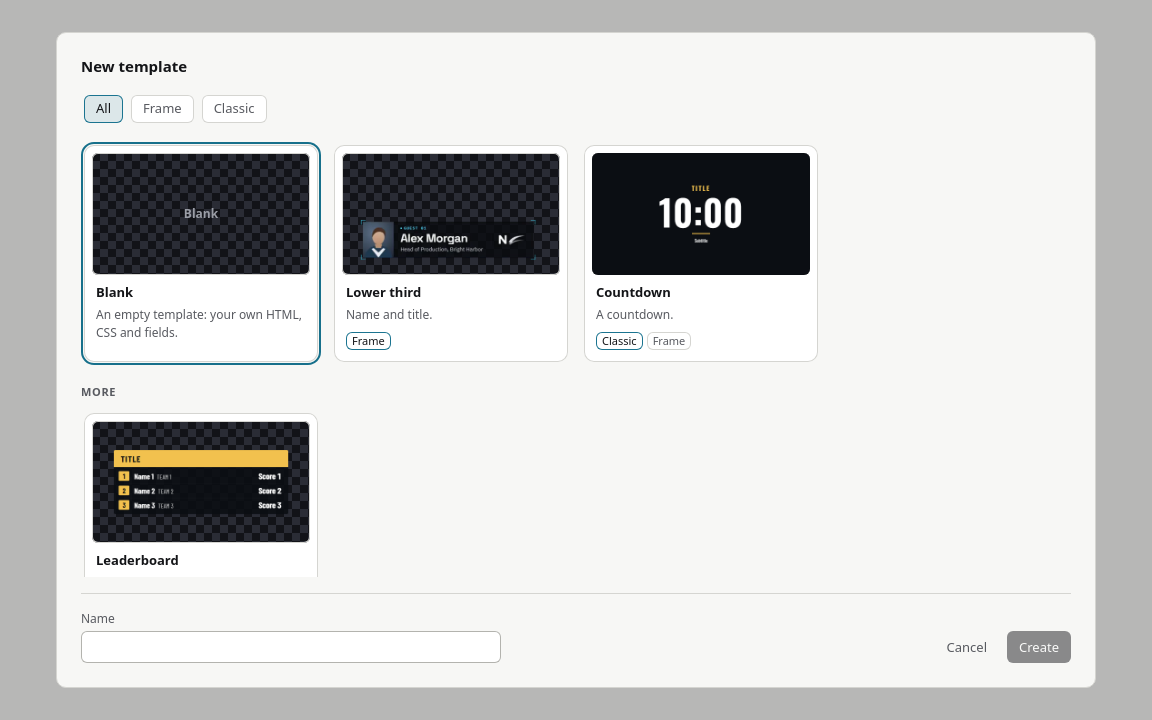
Gallery › the name input has no placeholder and is filled from the chosen preset
expect the option that starts with "Blank" is shown: met, box left=84, top=145, right=318, bottom=362
expect the element named "Style" is shown: met, box left=81, top=92, right=270, bottom=126
Click the option "Countdown A countdown. Classic Frame" at (701, 253), box left=584, top=145, right=818, bottom=362
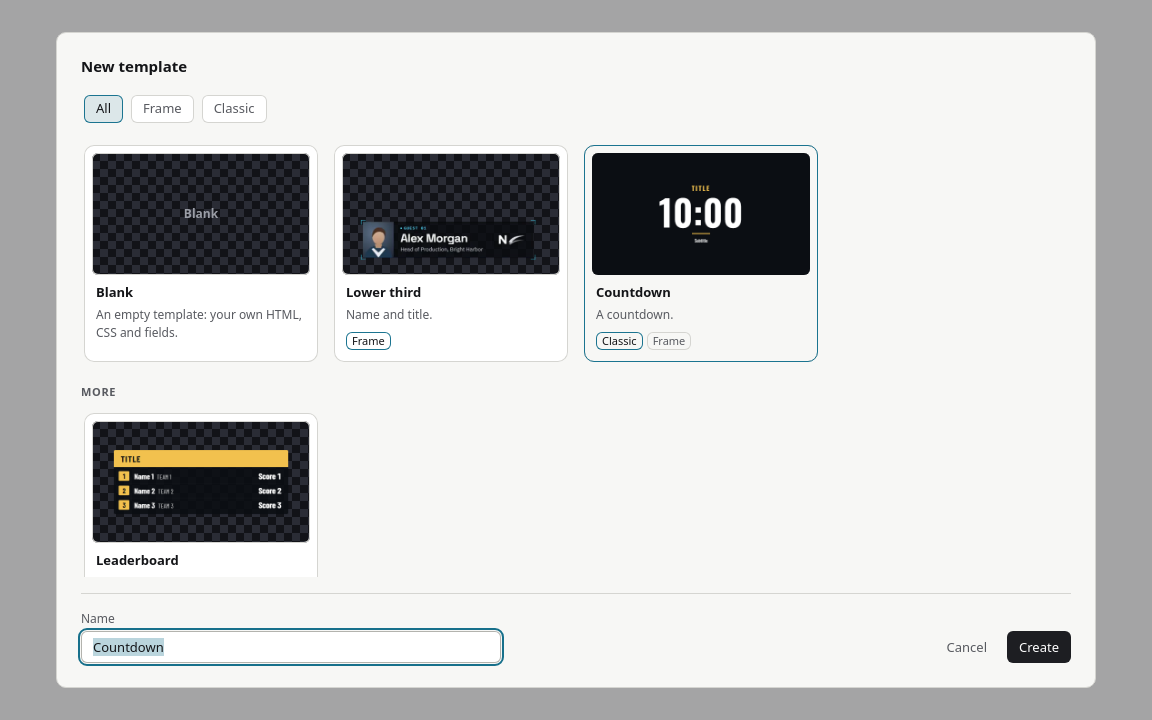
expect the field labelled "Name" holds "Countdown": met, box left=81, top=631, right=501, bottom=663
